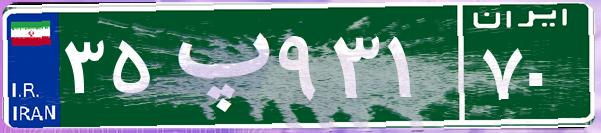0: (525, 38, 570, 115)
1: (385, 28, 445, 110)
3: (330, 28, 385, 110), (57, 26, 110, 107)
5: (110, 28, 158, 105)
7: (475, 38, 525, 113)
9: (273, 28, 330, 110)
پ: (158, 15, 273, 115)
